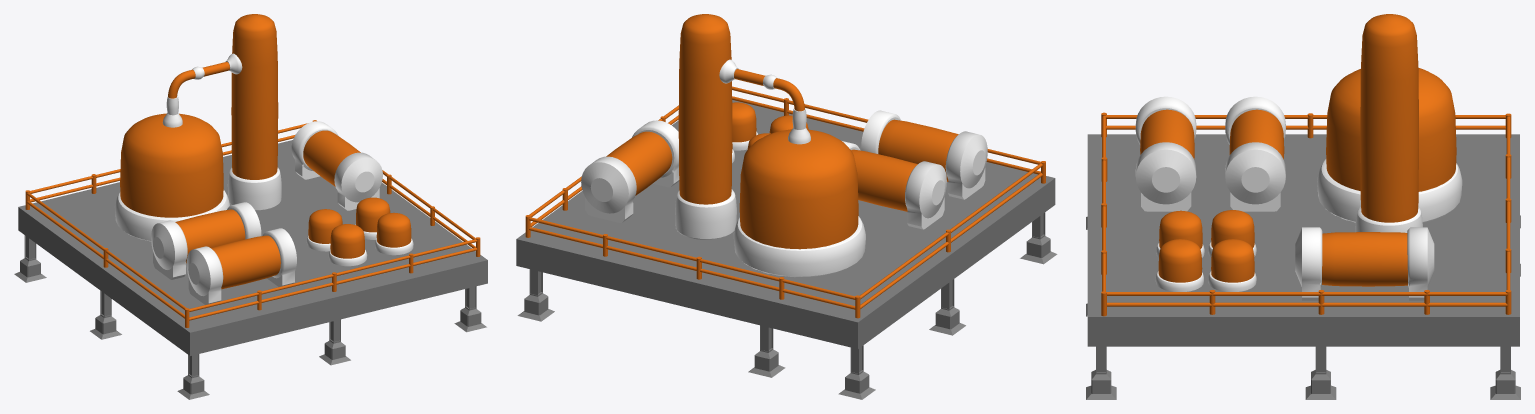
File: refinery.fbx
The picture shows the model from 3 angles, left to right: view 1: azimuth 30°, elevation 25°; view 2: azimuth 150°, elevation 25°; view 3: azimuth 270°, elevation 25°; orthographic projection. The views are drawn at different scales.
Visible parts, largest first — view 1: Cube.002, Cylinder.022, Cylinder.021, Cylinder.044, Cylinder.057, Cylinder.039, Cylinder.053, Cylinder.045, Cylinder.055, joint.021, joint.020, Cylinder.046 (+17 smaller); view 2: Cube.002, Cylinder.022, Cylinder.021, joint.020, Cylinder.056, Cylinder.039, Cylinder.044, Cylinder.045, Cylinder.053, joint.021, Cylinder.055, Cylinder.030 (+14 smaller); view 3: Cube.002, Cylinder.021, Cylinder.022, Cylinder.055, Cylinder.046, Cylinder.054, joint.020, Cylinder.027, Cylinder.044, Cylinder.039, Cylinder.057, Cylinder.056 (+17 smaller).
Boxes of the visible parts, x1,y1,x2,y2 form: Cube.002: [18, 140, 487, 355]; Cylinder.022: [120, 113, 223, 217]; Cylinder.021: [231, 14, 278, 179]; Cylinder.044: [211, 235, 280, 289]; Cylinder.057: [334, 152, 382, 210]; Cylinder.039: [175, 209, 245, 263]; Cylinder.053: [151, 220, 187, 279]; Cylinder.045: [186, 246, 223, 304]; Cylinder.055: [303, 130, 360, 186]; joint.021: [227, 167, 281, 210]; joint.020: [115, 190, 230, 241]; Cylinder.046: [262, 228, 296, 286]; Cube.002: [516, 100, 1055, 348]; Cylinder.022: [739, 129, 858, 249]; Cylinder.021: [678, 14, 732, 204]; joint.020: [733, 216, 865, 277]; Cylinder.056: [581, 156, 636, 222]; Cylinder.039: [851, 149, 917, 211]; Cylinder.044: [878, 119, 958, 181]; Cylinder.045: [945, 131, 987, 199]; Cylinder.053: [905, 161, 946, 229]; joint.021: [675, 189, 736, 239]; Cylinder.055: [606, 131, 672, 195]; Cylinder.030: [529, 217, 855, 299]; Cube.002: [1087, 134, 1519, 346]; Cylinder.021: [1360, 14, 1418, 222]; Cylinder.022: [1326, 68, 1456, 191]; Cylinder.055: [1322, 232, 1407, 286]; Cylinder.046: [1135, 142, 1196, 211]; Cylinder.054: [1225, 142, 1285, 211]; joint.020: [1317, 159, 1462, 222]; Cylinder.027: [1107, 302, 1507, 306]; Cylinder.044: [1140, 109, 1194, 159]; Cylinder.039: [1229, 109, 1284, 159]; Cylinder.057: [1295, 227, 1322, 300]; Cylinder.056: [1407, 227, 1434, 300].
Size of the model in its own units: 716 by 564 by 706.
